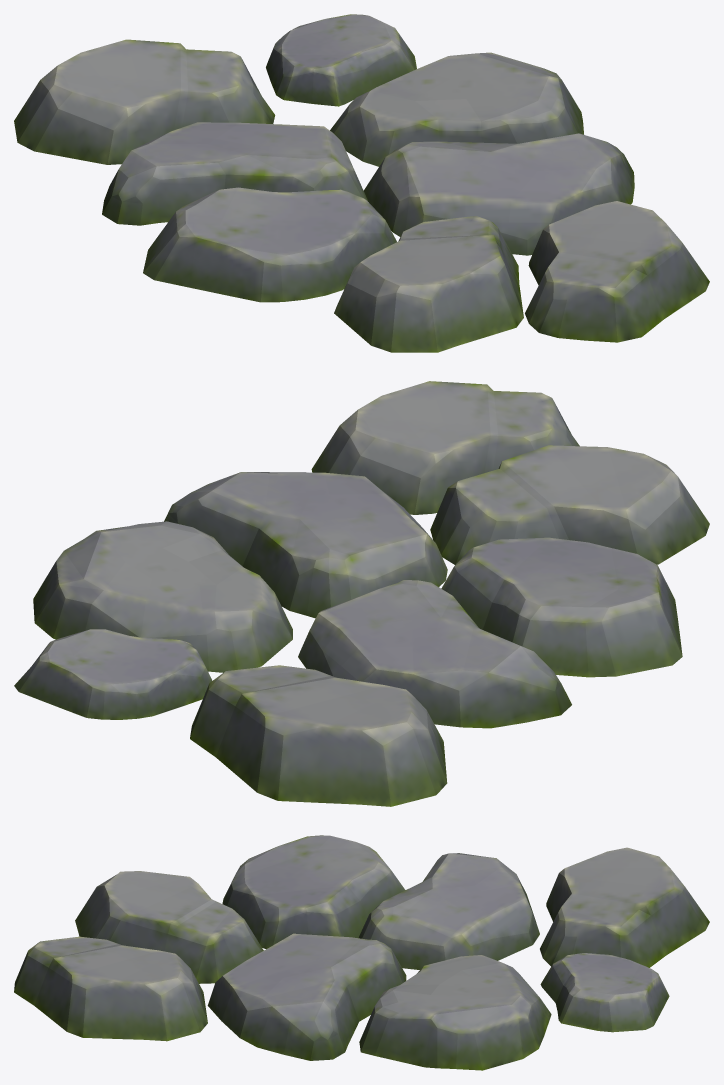
The model's file is path1.glb.
The picture shows the model from 3 angles, top to bottom: view 1: azimuth 30°, elevation 25°; view 2: azimuth 150°, elevation 25°; view 3: azimuth 270°, elevation 25°; orthographic projection. The views are drawn at different scales.
Visible parts, largest first — view 1: RockPath_Round_Small_1; view 2: RockPath_Round_Small_1; view 3: RockPath_Round_Small_1.
Part boxes in pixels (<box>): RockPath_Round_Small_1: <box>14,14,709,352</box>; RockPath_Round_Small_1: <box>14,381,709,806</box>; RockPath_Round_Small_1: <box>14,835,709,1070</box>.
Bounding box in the file's own units: 1.06 × 0.1128 × 1.48.
1 material, 1 textured.
